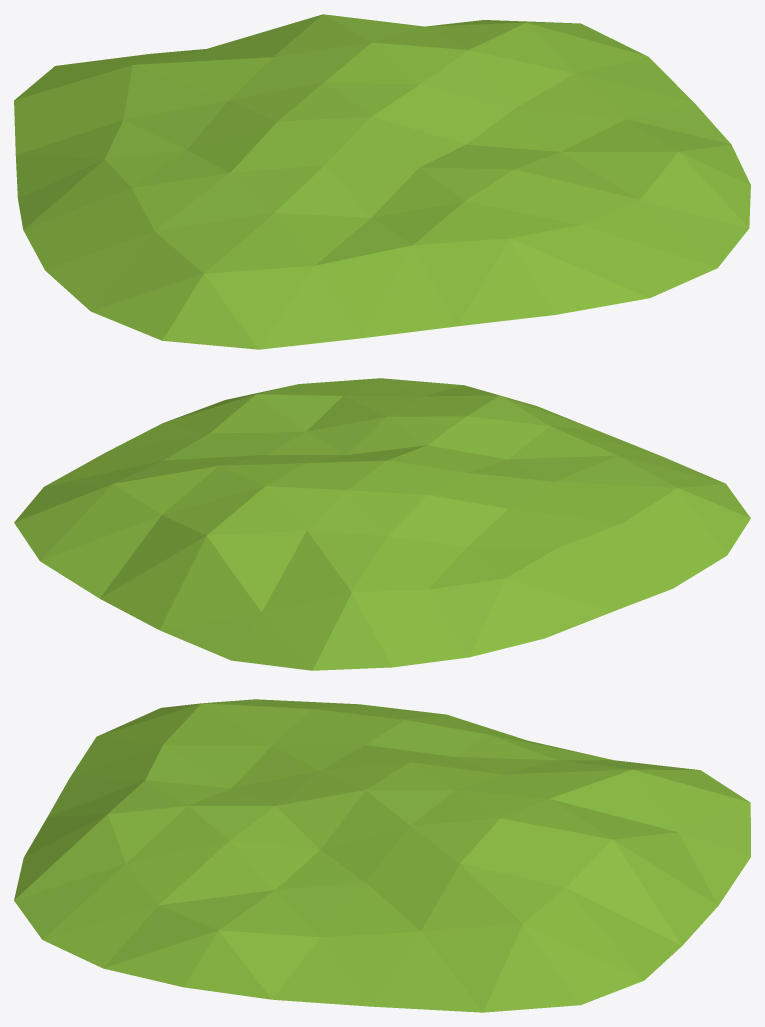
The model's file is model_polytope_ground_grass.fbx.
3 views of the same model, one above another, from view 1: azimuth 30°, elevation 25°; view 2: azimuth 150°, elevation 25°; view 3: azimuth 270°, elevation 25° (orthographic). The views are drawn at different scales.
Visible parts, largest first — view 1: model_polytope_ground_grass; view 2: model_polytope_ground_grass; view 3: model_polytope_ground_grass.
Part boxes in pixels (bbox=[...]): model_polytope_ground_grass: bbox=[14, 14, 750, 349]; model_polytope_ground_grass: bbox=[14, 378, 750, 670]; model_polytope_ground_grass: bbox=[14, 699, 750, 1012].
Bounding box in the file's own units: 443 × 54.26 × 437.
